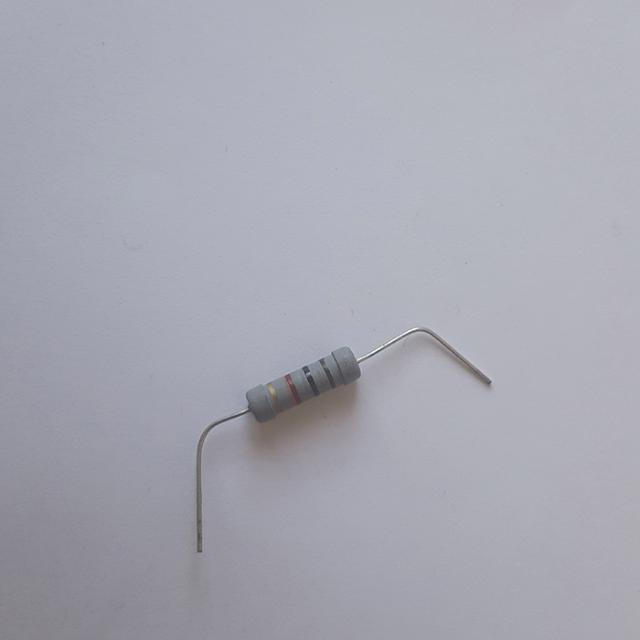black: (303, 366, 320, 395)
brown: (320, 357, 336, 386)
gold: (268, 382, 282, 413)
red: (285, 372, 303, 403)
resistor: (235, 335, 372, 436)
